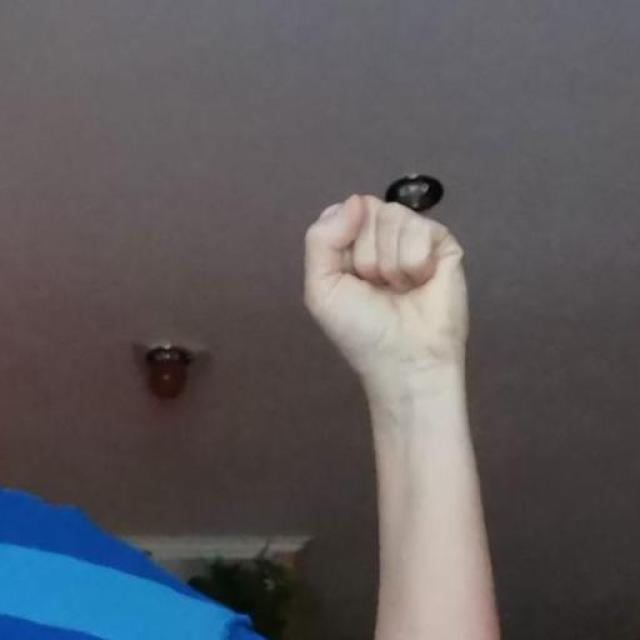hand: (301, 190, 471, 404)
